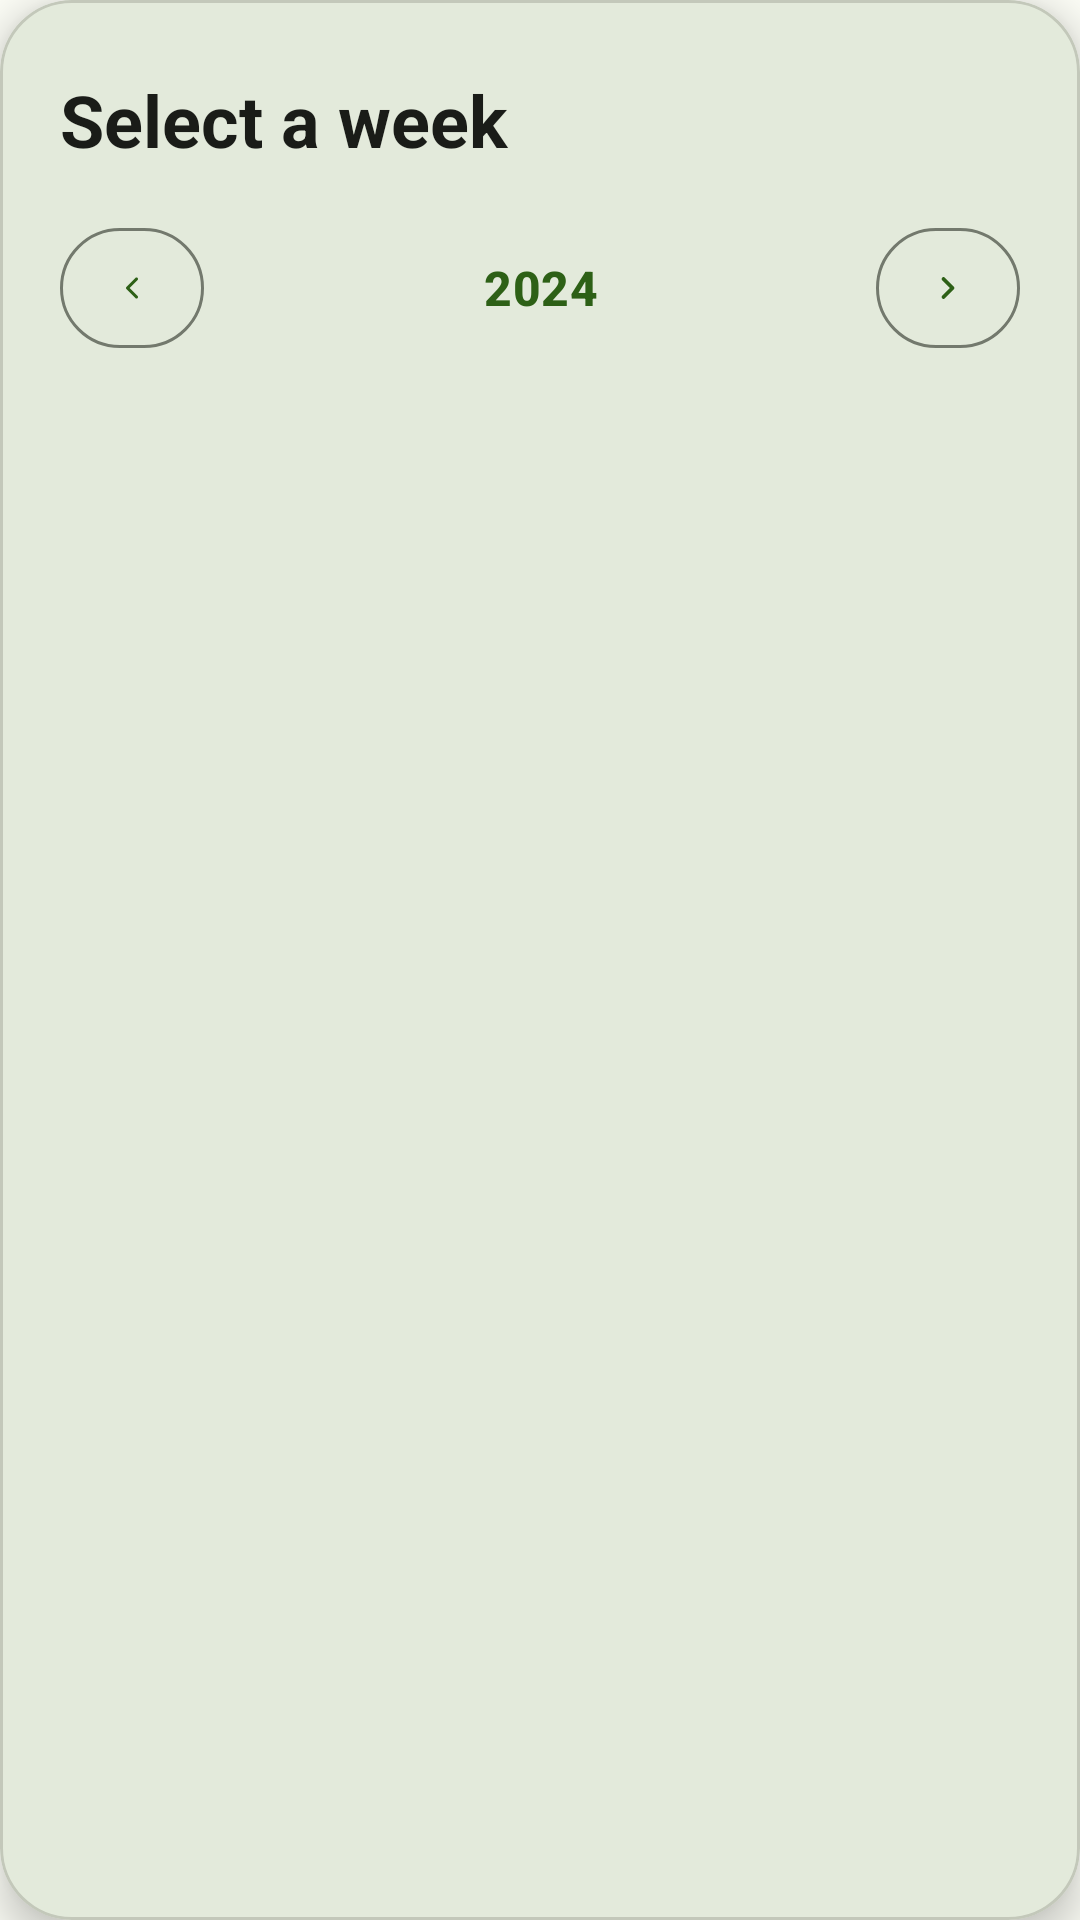

Named icons in this screenshot (1080px×1920px) and their centers, point (x, y):
Next year: point (948, 288)
Previous year: point (132, 288)
